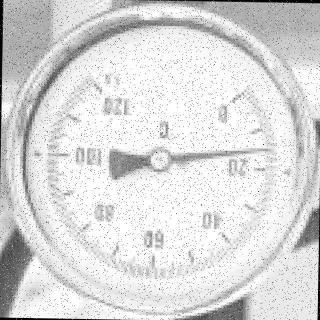gauge: (0, 1, 320, 320), (192, 69, 256, 127), (85, 74, 115, 106), (146, 145, 173, 175), (262, 144, 274, 156)
